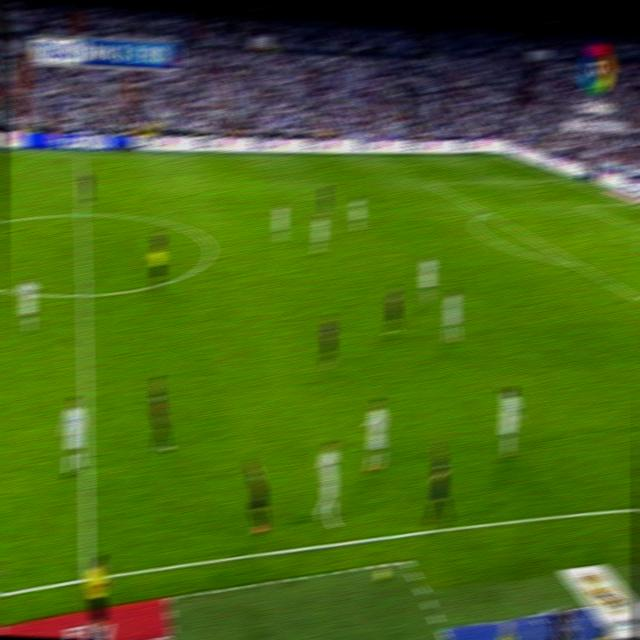halfcircle_bottom: (76, 282, 91, 306)
halfcircle_top: (74, 205, 88, 224)
midline_top_intersection: (75, 149, 86, 160)
top_arc_area_intersection: (478, 204, 490, 218)
